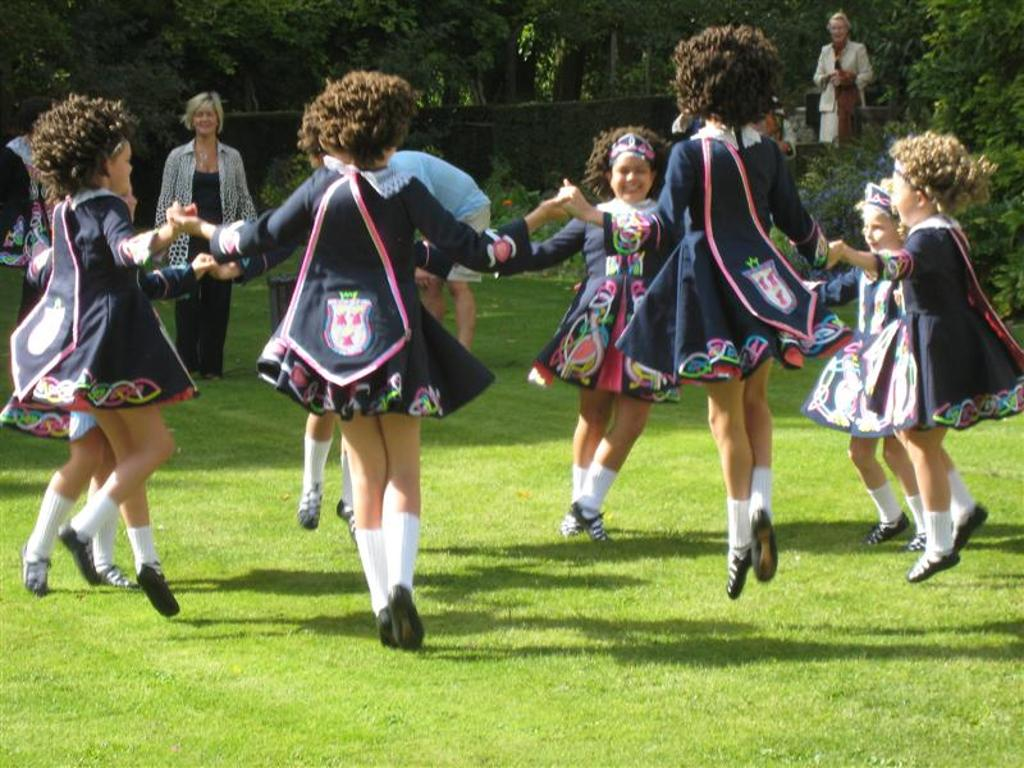face: (610, 148, 648, 202), (891, 172, 922, 225), (100, 143, 132, 193), (864, 204, 895, 253), (192, 103, 217, 134), (829, 19, 844, 40)
